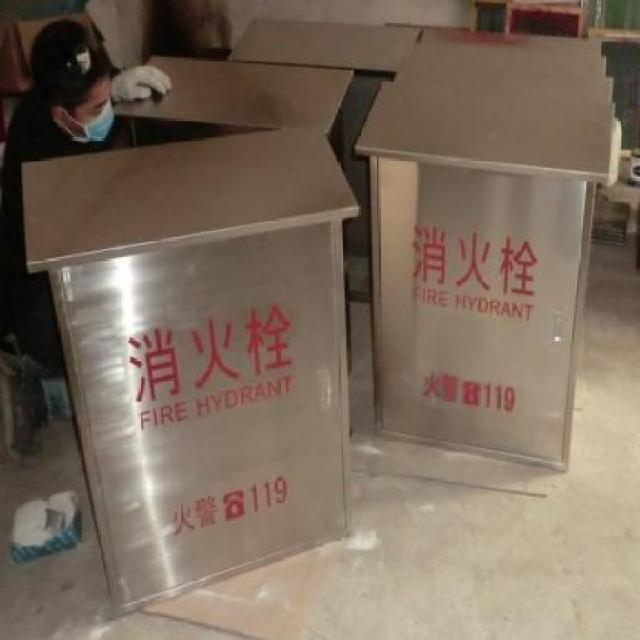firehydrant: (19, 121, 363, 622), (352, 75, 618, 478), (109, 49, 357, 172), (228, 11, 422, 73)
